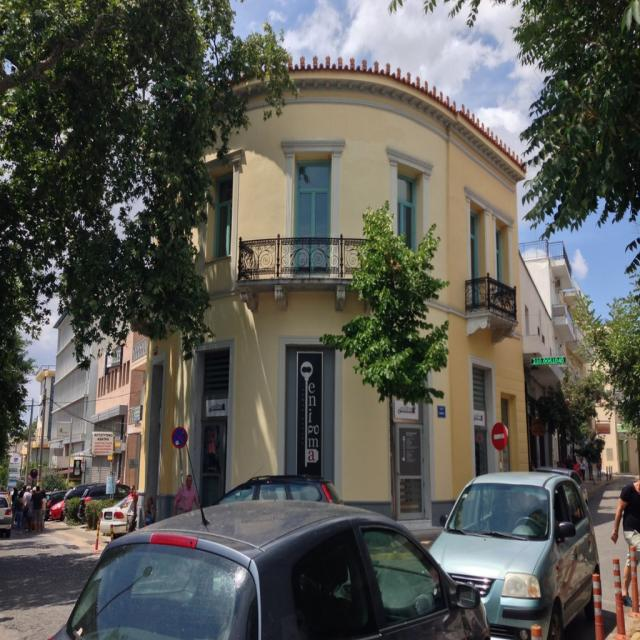other: (48, 496, 490, 639), (419, 470, 599, 635), (201, 472, 345, 507), (41, 478, 118, 518), (100, 489, 146, 535), (0, 487, 14, 535)
